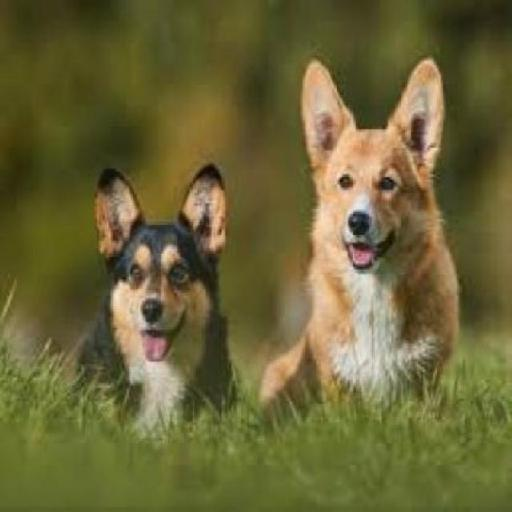Dog: (290, 66, 460, 418), (94, 162, 244, 432)
